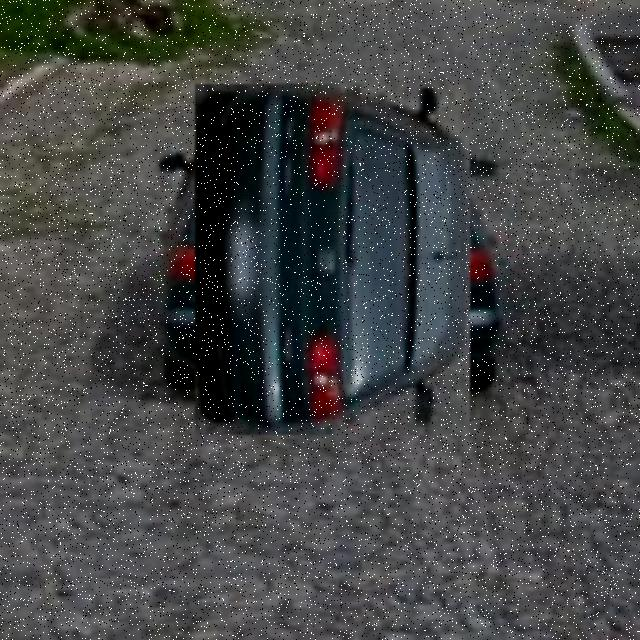car: (177, 104, 489, 417)
